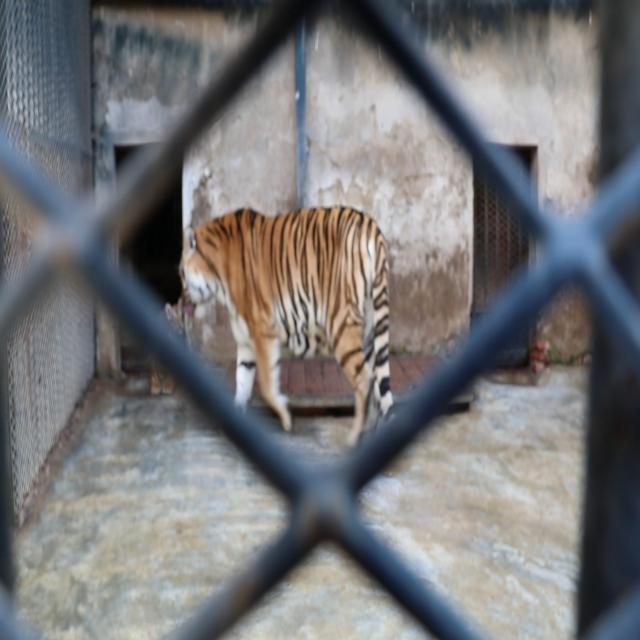Tiger: (173, 181, 398, 489)
